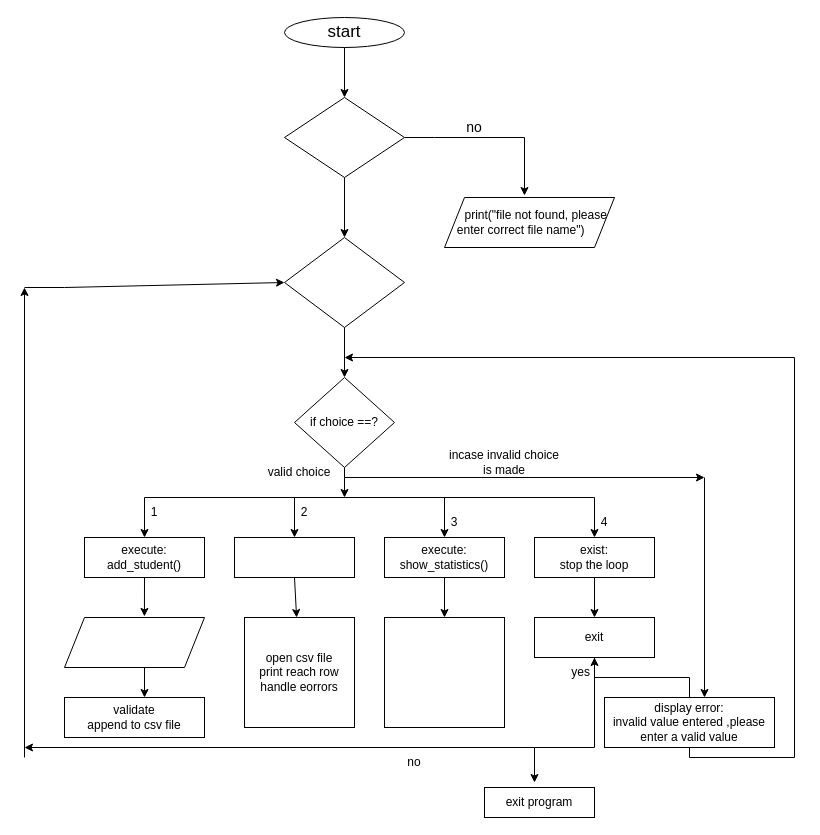
Image size: 820x835. Some labels were removed from this diagram. The shapes that lost their labels are listed below. From the top down, each one's centre as x and y in pixels, then its label:
point 344,137: check if student.csv exist
point 344,282: while true
point 294,557: execute: read_sudent()
point 134,642: input name,age,marks ,city
point 444,672: Count total students Count marks > 80 Average marks Handle errors
